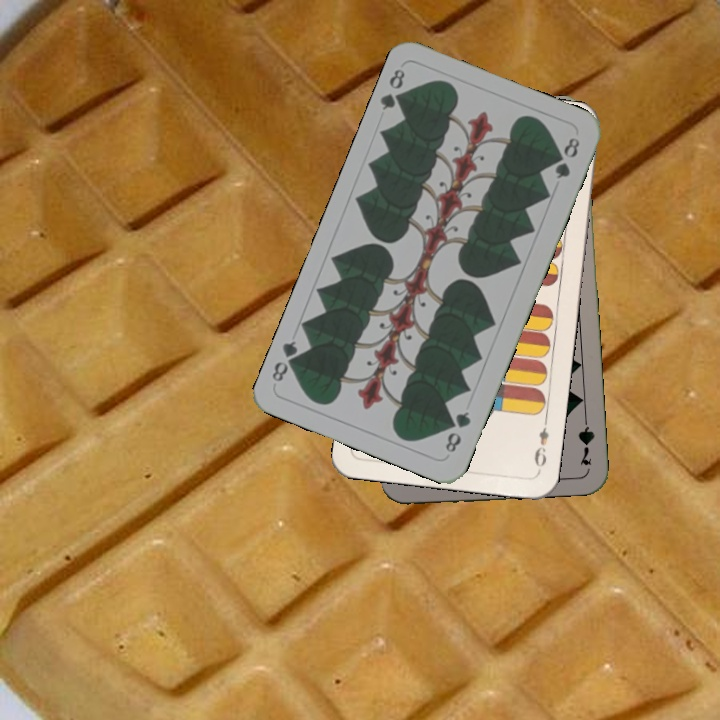E9: (530, 415, 552, 474)
G7: (574, 409, 597, 468)
G8: (376, 64, 410, 113), (441, 407, 474, 456)
